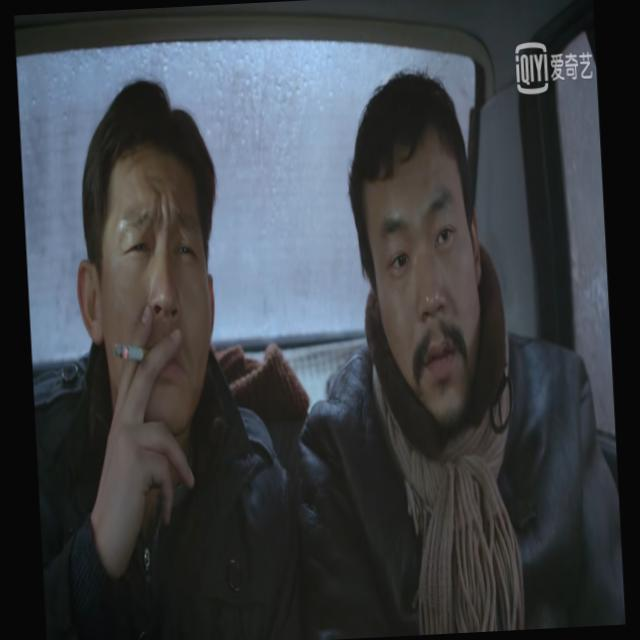cigarette: (112, 336, 154, 368)
